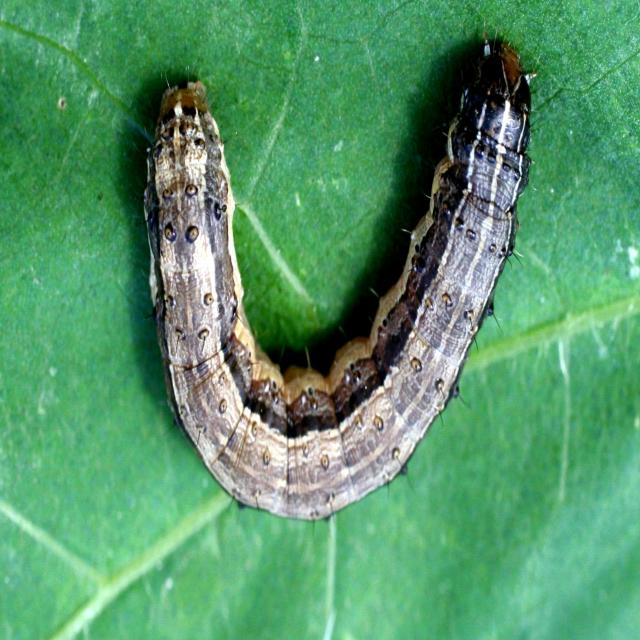Armyworm: (123, 16, 549, 549)
